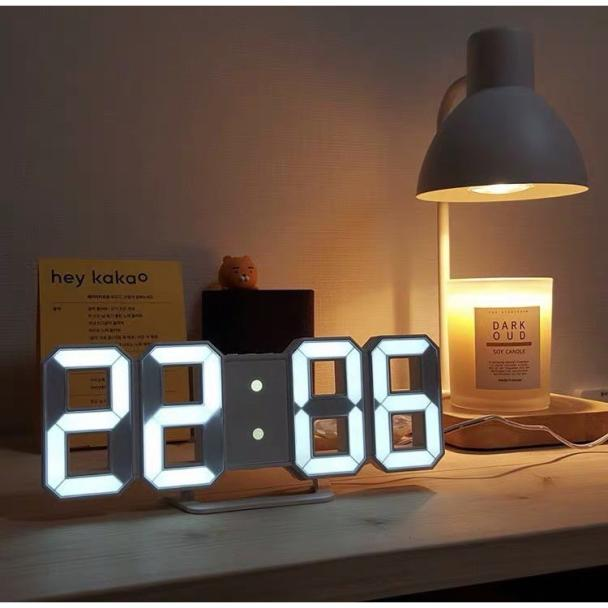Jam: (43, 337, 450, 493)
